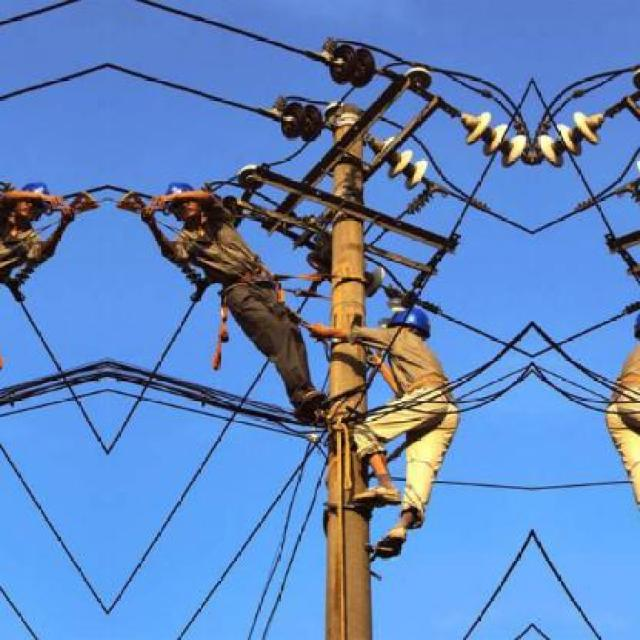helmet: (386, 301, 432, 354), (157, 178, 203, 222), (10, 178, 56, 222)
